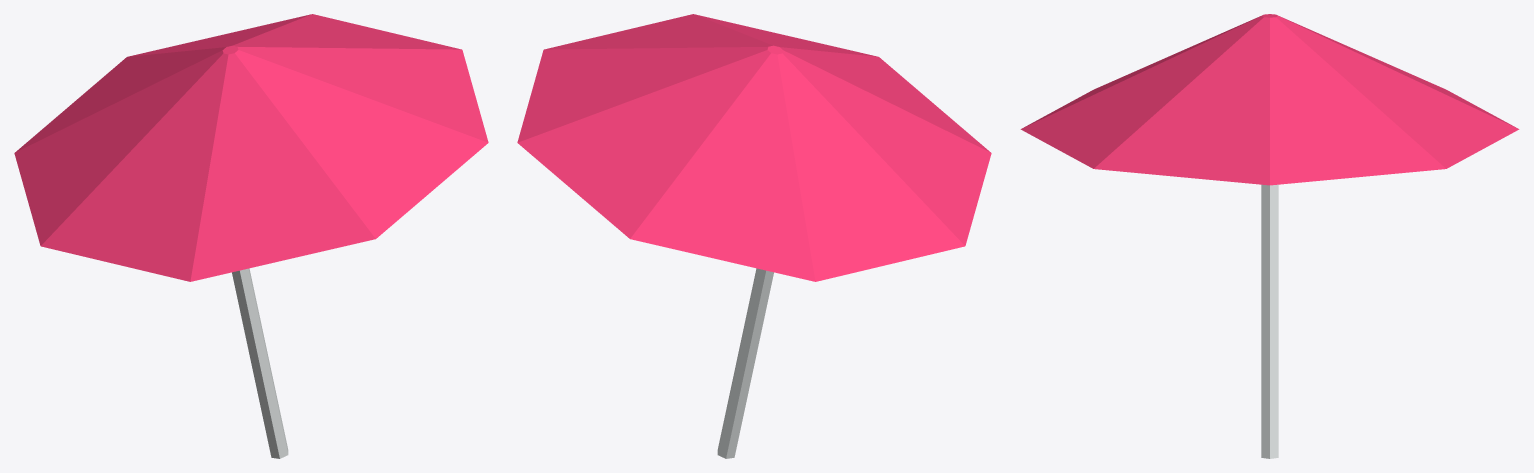
The model's file is umbrella.glb.
The picture shows the model from 3 angles, left to right: view 1: azimuth 30°, elevation 25°; view 2: azimuth 150°, elevation 25°; view 3: azimuth 270°, elevation 25°; orthographic projection.
Parts seen in each view (by area): view 1: Canopy, Pole; view 2: Canopy, Pole; view 3: Canopy, Pole.
Part boxes in pixels (<box>): Canopy: <box>14,14,488,281</box>; Pole: <box>232,268,288,458</box>; Canopy: <box>517,14,991,281</box>; Pole: <box>717,268,773,458</box>; Canopy: <box>1020,14,1519,185</box>; Pole: <box>1261,184,1278,458</box>.
Bounding box in the file's own units: 2.93 × 2.79 × 3.
